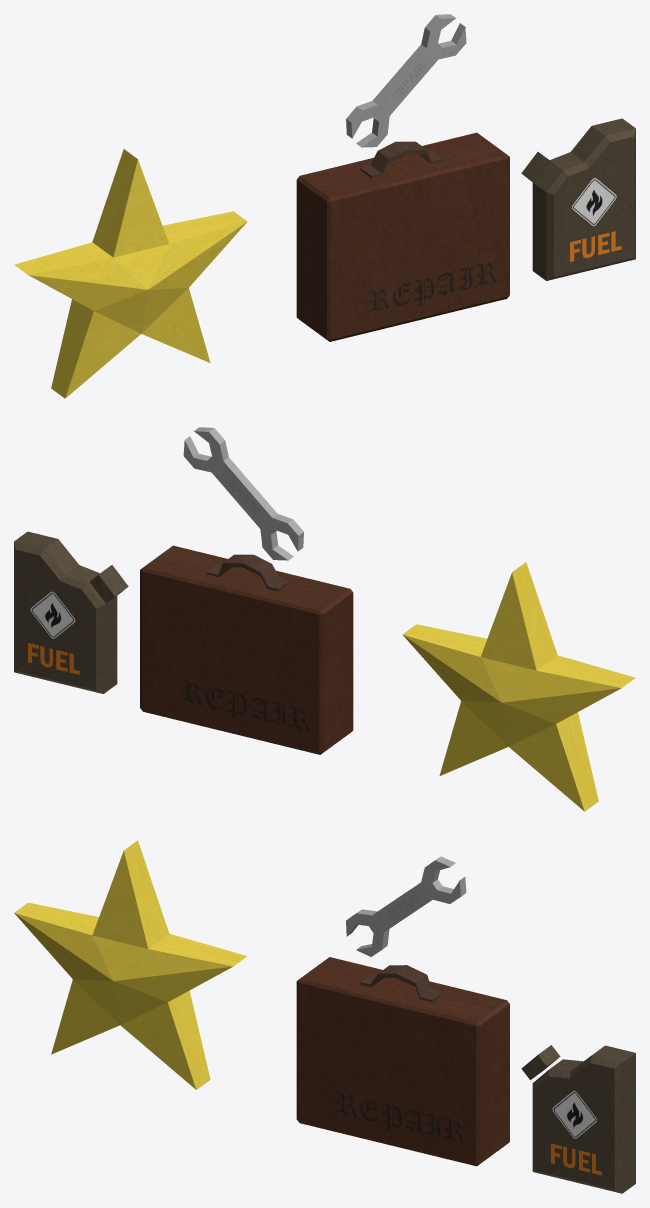
The model's file is Powerups.FBX.
3 renders of one model, top to bottom at view 1: azimuth 30°, elevation 25°; view 2: azimuth 150°, elevation 25°; view 3: azimuth 330°, elevation 25°, orthographic.
Parts seen in each view (by area): view 1: RepairBox, Star, FuelCan; view 2: RepairBox, Star, FuelCan; view 3: RepairBox, Star, FuelCan.
Part boxes in pixels (left/top/right/bottom): RepairBox: left=296, top=14, right=509, bottom=341; Star: left=14, top=149, right=247, bottom=398; FuelCan: left=521, top=118, right=635, bottom=280; RepairBox: left=140, top=427, right=353, bottom=754; Star: left=402, top=562, right=635, bottom=811; FuelCan: left=14, top=531, right=128, bottom=693; RepairBox: left=296, top=856, right=509, bottom=1166; Star: left=14, top=840, right=247, bottom=1089; FuelCan: left=521, top=1045, right=635, bottom=1193.
Size of the model in its own units: 131 by 58.35 by 12.98.
1 material, 1 textured.
